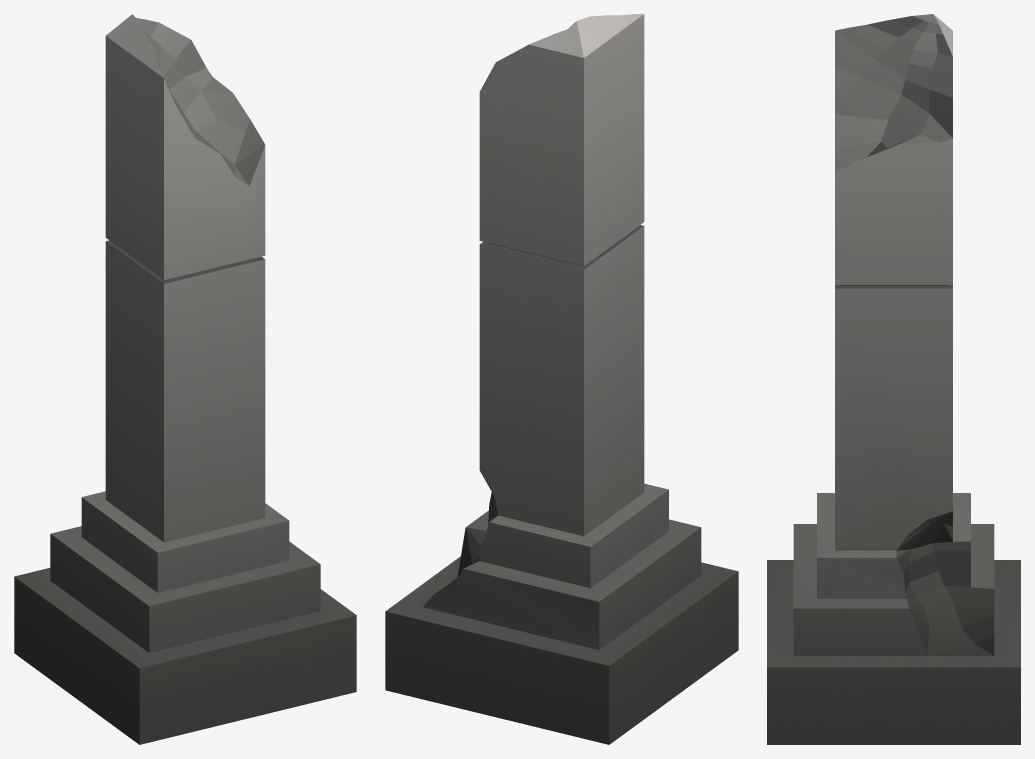
File: monoliths_model_01.fbx
The picture shows the model from 3 angles, left to right: view 1: azimuth 30°, elevation 25°; view 2: azimuth 150°, elevation 25°; view 3: azimuth 270°, elevation 25°; orthographic projection. The views are drawn at different scales.
Parts seen in each view (by area): view 1: Cube.001; view 2: Cube.001; view 3: Cube.001.
Part boxes in pixels (<box>): Cube.001: <box>14,14,356,744</box>; Cube.001: <box>385,14,738,744</box>; Cube.001: <box>767,14,1020,744</box>.
Bounding box in the file's own units: 3 × 8.61 × 3.
